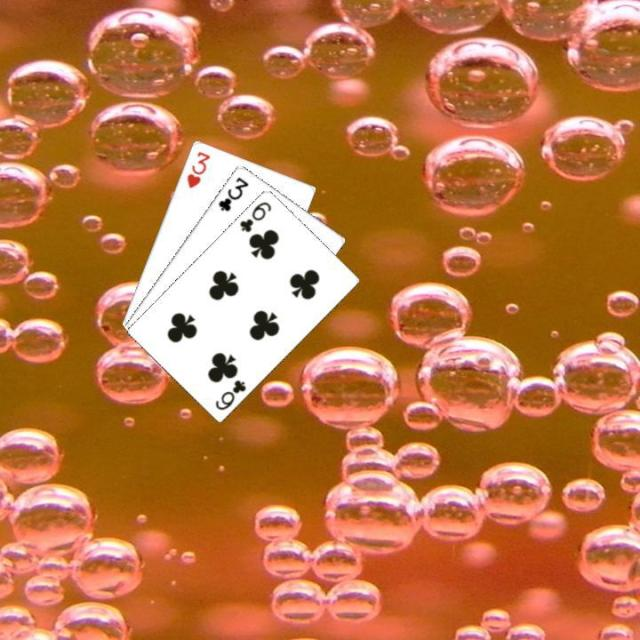3C: (214, 172, 251, 212)
3H: (183, 148, 212, 190)
6C: (235, 197, 273, 234), (212, 375, 248, 412)
